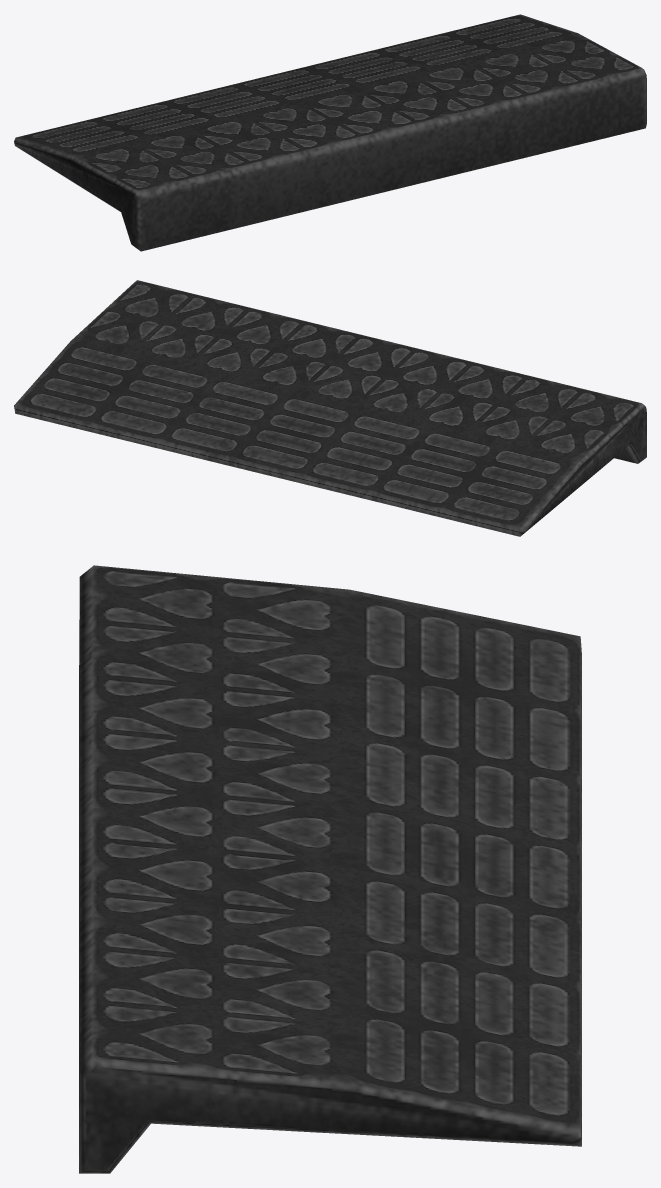
File: SM_Wedge.fbx
The picture shows the model from 3 angles, top to bottom: view 1: azimuth 30°, elevation 25°; view 2: azimuth 150°, elevation 25°; view 3: azimuth 270°, elevation 25°; orthographic projection. The views are drawn at different scales.
Parts seen in each view (by area): view 1: SM_Wedge_LOD0; view 2: SM_Wedge_LOD0; view 3: SM_Wedge_LOD0.
Boxes of the visible parts, left/top/right/bottom form: SM_Wedge_LOD0: left=14, top=14, right=646, bottom=251; SM_Wedge_LOD0: left=14, top=280, right=646, bottom=536; SM_Wedge_LOD0: left=79, top=565, right=581, bottom=1173.
Bounding box in the file's own units: 50 × 21.33 × 5.4.
1 material, 1 textured.
